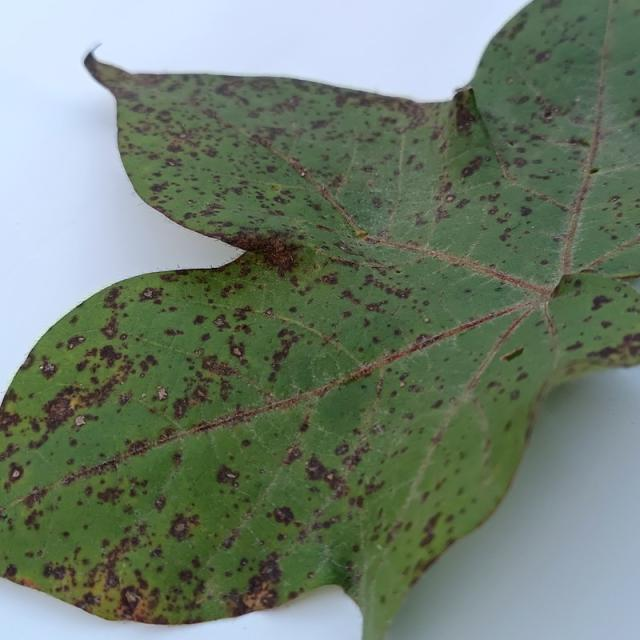Bacterial_Blight: (499, 173, 578, 214), (236, 562, 283, 612), (241, 117, 305, 149), (356, 272, 416, 302), (266, 328, 304, 374), (529, 93, 577, 123), (129, 589, 170, 623), (43, 393, 80, 430), (259, 241, 301, 272), (540, 297, 559, 358), (316, 249, 366, 271), (167, 511, 200, 541), (200, 356, 242, 378), (585, 341, 629, 362), (453, 97, 477, 133), (226, 334, 252, 366), (305, 456, 332, 483), (418, 515, 440, 545), (215, 463, 242, 487), (95, 483, 124, 505), (121, 586, 143, 614), (458, 155, 483, 179), (96, 343, 122, 366), (101, 286, 124, 308), (552, 277, 577, 297), (271, 505, 295, 525), (6, 461, 25, 486), (100, 316, 120, 339), (126, 438, 150, 457), (196, 201, 224, 217), (282, 445, 303, 466), (232, 305, 256, 323), (138, 354, 159, 374), (138, 286, 164, 302), (172, 397, 190, 420), (590, 294, 614, 311), (39, 358, 59, 378), (364, 299, 389, 314), (501, 346, 524, 362), (66, 334, 87, 351), (19, 577, 43, 591), (296, 416, 313, 435), (165, 140, 188, 154), (433, 206, 450, 224), (148, 181, 170, 194), (319, 272, 339, 286), (370, 331, 385, 348), (178, 569, 195, 584), (105, 571, 119, 589), (494, 211, 512, 225), (277, 327, 295, 340), (564, 340, 583, 352), (51, 565, 66, 580), (534, 50, 551, 63), (567, 135, 587, 146), (118, 391, 132, 406), (4, 563, 18, 578), (334, 443, 349, 457), (454, 198, 471, 210), (164, 327, 184, 337), (370, 422, 385, 435), (498, 229, 513, 242), (154, 495, 166, 510), (213, 316, 228, 328), (519, 205, 533, 217), (512, 157, 527, 168), (316, 224, 334, 233), (371, 196, 383, 209), (431, 398, 444, 409), (354, 228, 368, 238), (407, 384, 422, 393), (509, 389, 520, 401), (157, 387, 167, 400), (542, 108, 553, 119), (240, 438, 252, 448), (337, 243, 350, 252), (487, 206, 499, 215), (608, 195, 621, 203), (270, 183, 281, 192), (507, 140, 519, 148), (197, 388, 206, 398), (211, 234, 223, 241), (239, 558, 248, 567), (194, 348, 204, 356), (624, 69, 635, 76), (589, 168, 600, 175), (307, 571, 315, 579), (265, 309, 273, 316), (394, 267, 402, 274), (446, 195, 454, 202), (398, 381, 405, 388), (507, 77, 514, 84), (575, 96, 581, 103), (548, 168, 555, 173), (168, 161, 175, 166), (78, 337, 85, 342), (140, 372, 145, 378), (180, 133, 186, 138), (187, 200, 193, 205), (176, 263, 181, 269), (121, 380, 125, 385)
Cotton: (0, 0, 639, 639)
